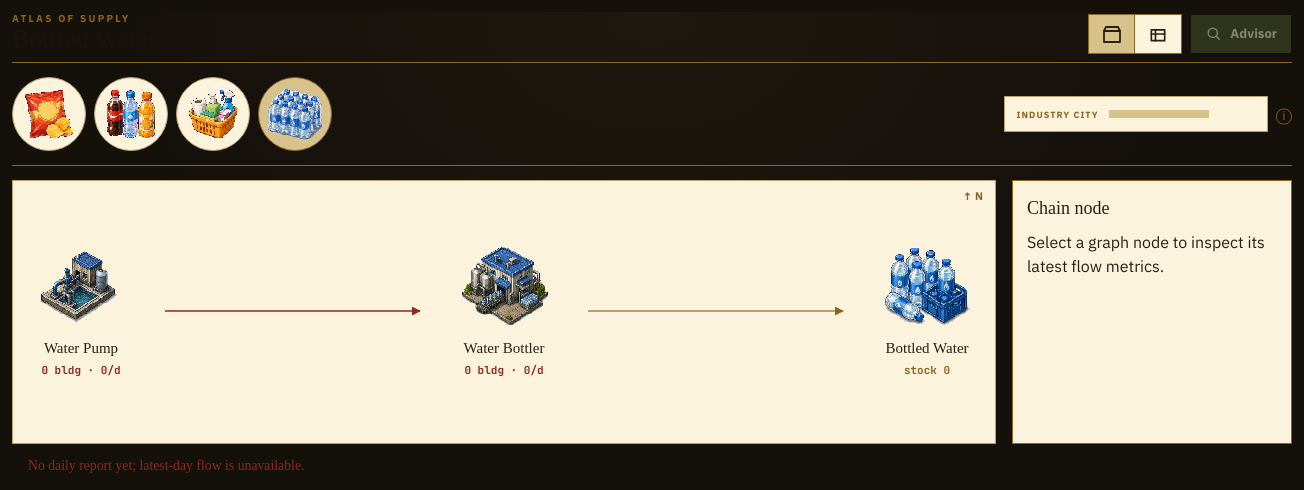
Test case: ProductChainsPanel › selects a non-default category stamp to filter the chain view
Click the heading "ⓘ" at (1284, 114), box [1276,102,1292,126]
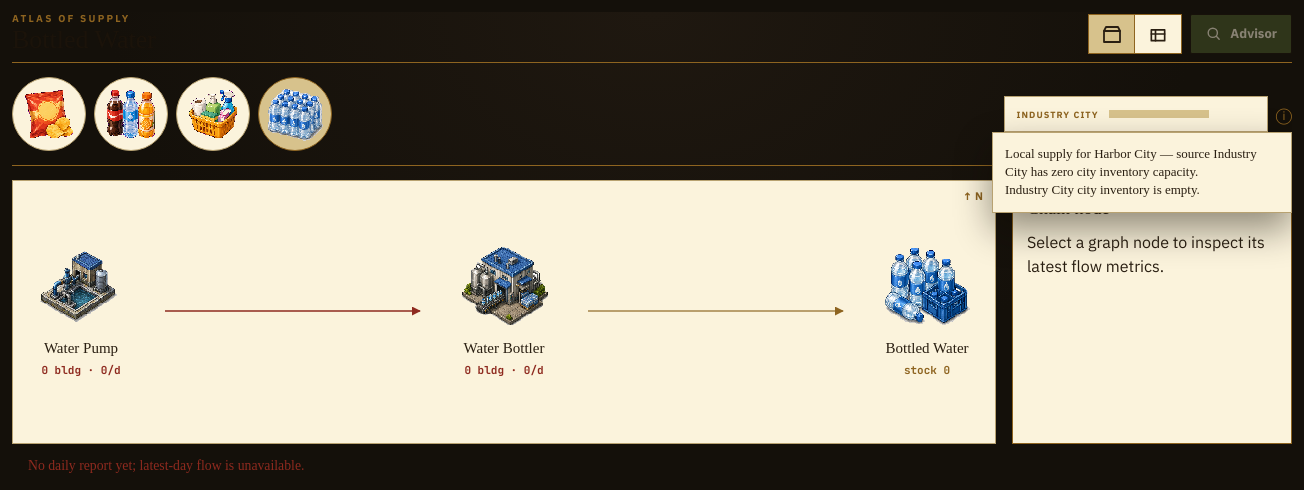
Expected: the button with test id "category-stamp-bottled-water" is shown, [258,77,332,151]
Click the button with test id "category-stamp-snacks" at (49, 114), box [12,77,86,151]
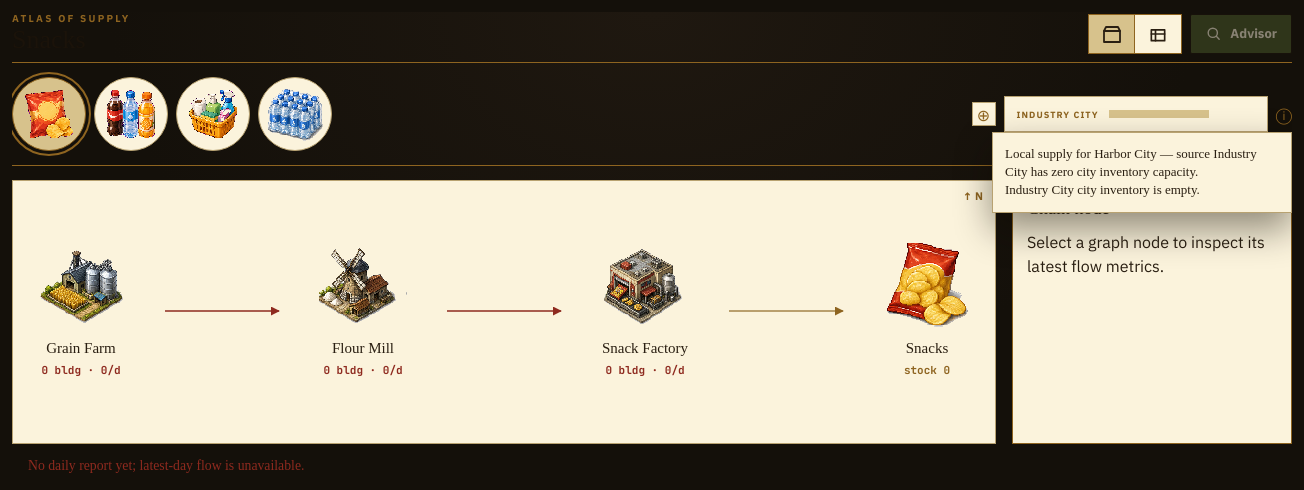
Expected: the element with test id "product-chain-graph-chain:snacks" is shown, [13,181,995,443]
